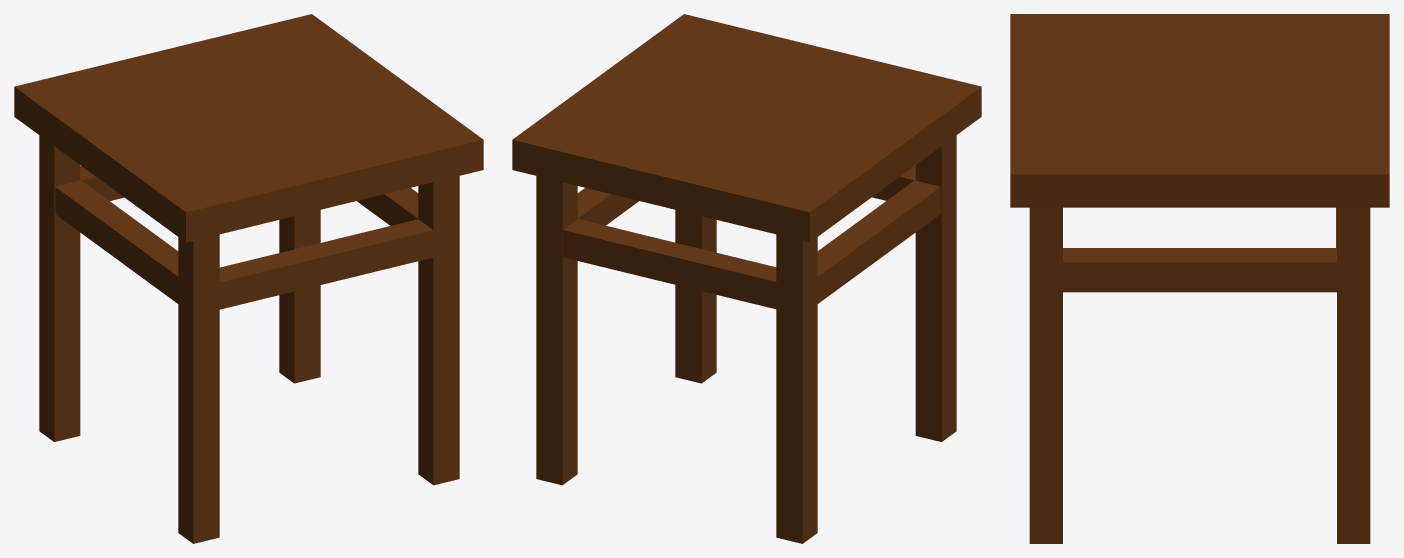
Rendered from табуретка.fbx.
The picture shows the model from 3 angles, left to right: view 1: azimuth 30°, elevation 25°; view 2: azimuth 150°, elevation 25°; view 3: azimuth 270°, elevation 25°; orthographic projection. The views are drawn at different scales.
Visible parts, largest first — view 1: Cube, Куб, Куб.001, Куб.003, Куб.006, Куб.007, Куб.002, Куб.005, Куб.004; view 2: Cube, Куб.003, Куб.002, Куб, Куб.004, Куб.007, Куб.001, Куб.005, Куб.006; view 3: Cube, Куб.005, Куб.002, Куб.001.
Boxes of the visible parts, bbox=[...] form: Cube: bbox=[14, 14, 483, 242]; Куб: bbox=[178, 234, 219, 543]; Куб.001: bbox=[418, 176, 459, 485]; Куб.003: bbox=[39, 135, 80, 441]; Куб.006: bbox=[219, 219, 433, 309]; Куб.007: bbox=[55, 180, 178, 303]; Куб.002: bbox=[279, 210, 320, 383]; Куб.005: bbox=[357, 188, 418, 225]; Куб.004: bbox=[80, 166, 123, 200]; Cube: bbox=[512, 14, 981, 242]; Куб.003: bbox=[776, 234, 817, 543]; Куб.002: bbox=[536, 176, 577, 485]; Куб: bbox=[915, 135, 956, 441]; Куб.004: bbox=[563, 219, 776, 309]; Куб.007: bbox=[817, 180, 940, 303]; Куб.001: bbox=[675, 210, 716, 383]; Куб.005: bbox=[577, 188, 638, 225]; Куб.006: bbox=[872, 166, 915, 200]; Cube: bbox=[1010, 14, 1389, 207]; Куб.005: bbox=[1060, 248, 1338, 292]; Куб.002: bbox=[1337, 207, 1370, 543]; Куб.001: bbox=[1029, 207, 1062, 543].
Bounding box in the file's own units: 200 × 220 × 200.
